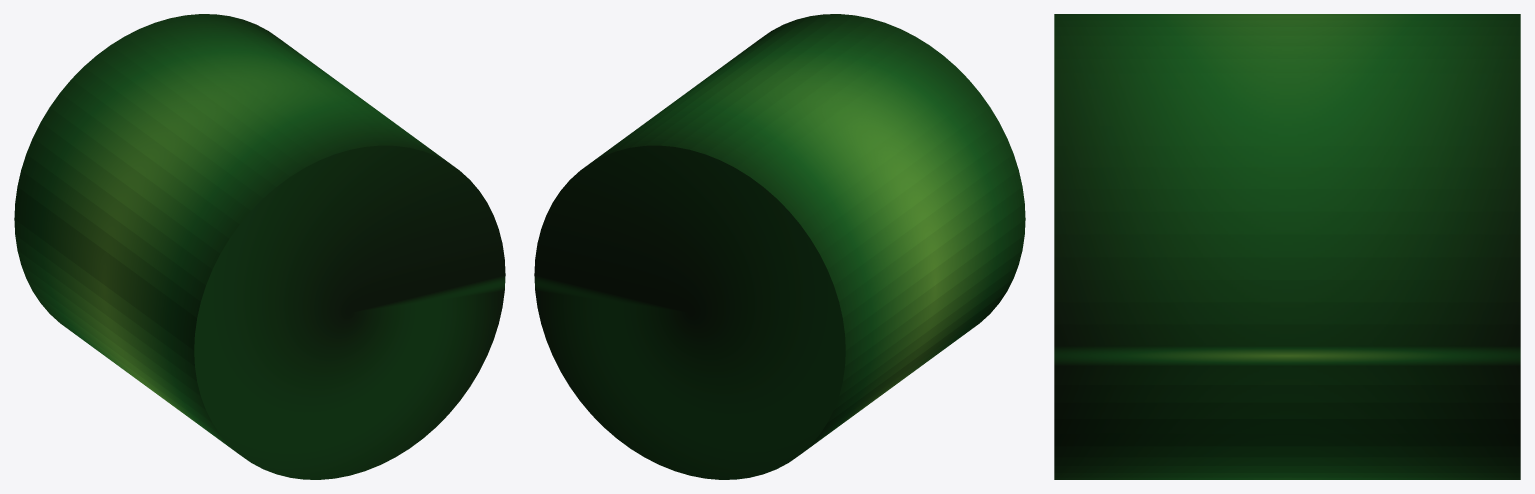
Rendered from cylinder-forest.glb.
3 views of the same model, side by side, from view 1: azimuth 30°, elevation 25°; view 2: azimuth 150°, elevation 25°; view 3: azimuth 270°, elevation 25° (orthographic). The views are drawn at different scales.
Parts seen in each view (by area): view 1: world; view 2: world; view 3: world.
Boxes of the visible parts, x1=… form: world: x1=14, y1=14, x2=505, y2=479; world: x1=534, y1=14, x2=1025, y2=479; world: x1=1054, y1=14, x2=1520, y2=479.
Size of the model in its own units: 1 by 1 by 1.
Materials: 1 (1 with a texture image).
